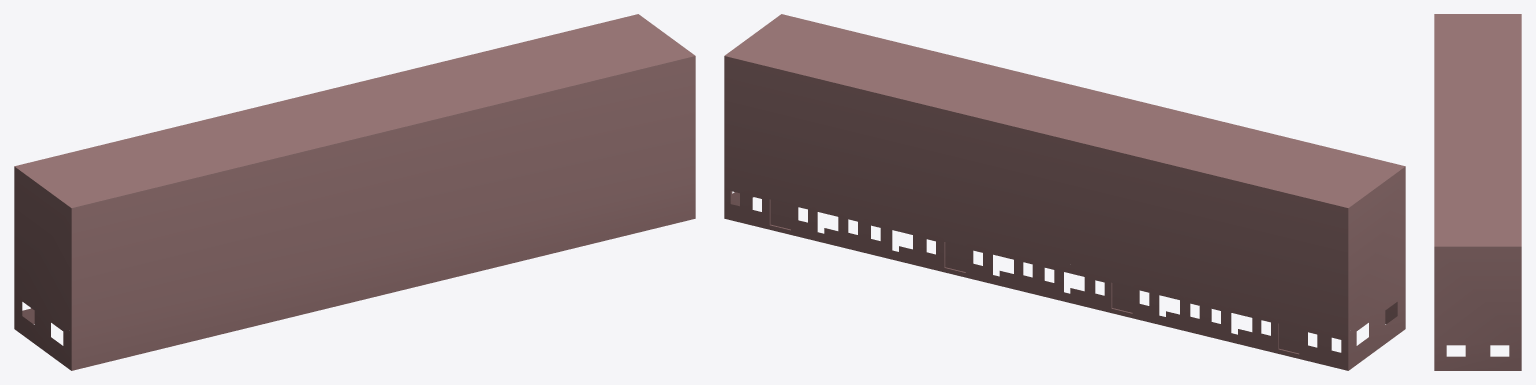
File: New Fasad Red.fbx
3 views of the same model, side by side, from view 1: azimuth 30°, elevation 25°; view 2: azimuth 150°, elevation 25°; view 3: azimuth 270°, elevation 25° (orthographic). The views are drawn at different scales.
Parts seen in each view (by area): view 1: Red_Fasad; view 2: Red_Fasad; view 3: Red_Fasad.
Boxes of the visible parts, bbox=[...] form: Red_Fasad: bbox=[14, 14, 695, 370]; Red_Fasad: bbox=[724, 14, 1405, 370]; Red_Fasad: bbox=[1434, 14, 1521, 370].
Size of the model in its own units: 154 by 24.46 by 38.34.
